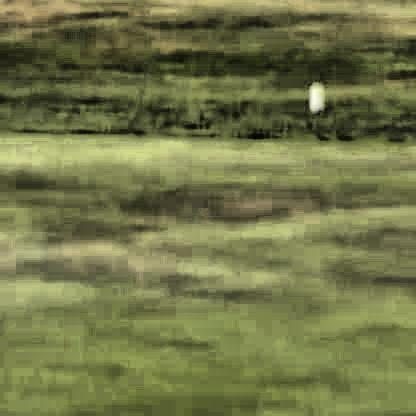golfball: (306, 79, 322, 107)
